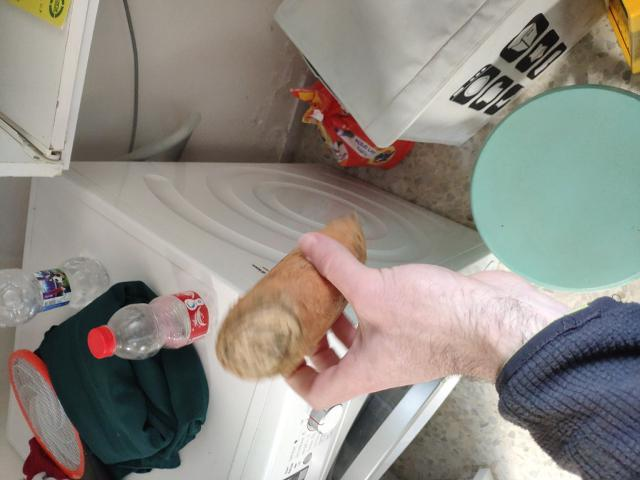sweet_potato: (218, 204, 364, 393)
